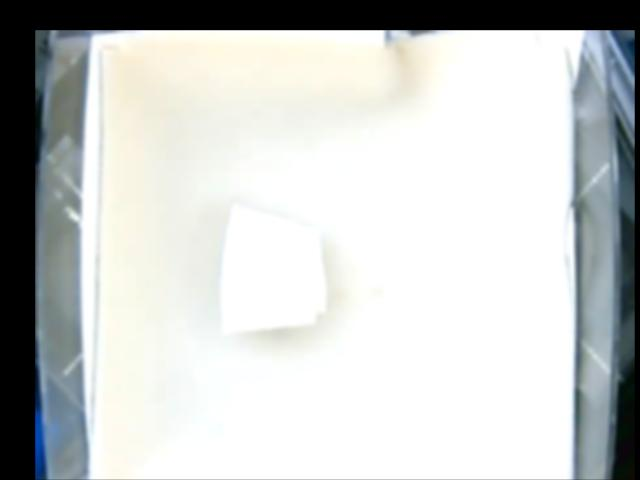Cup: (219, 204, 326, 335)
